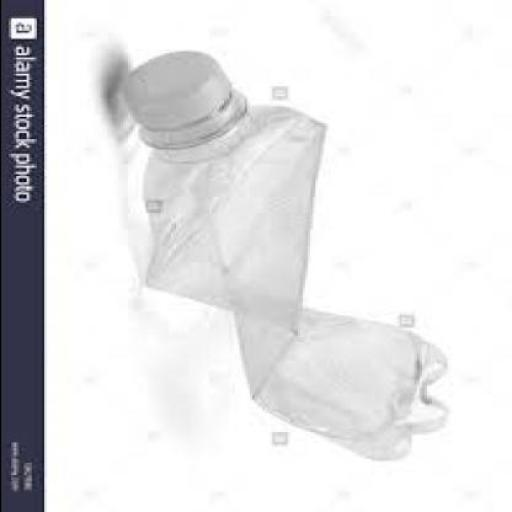plastic: (132, 51, 454, 459), (124, 51, 249, 147)
